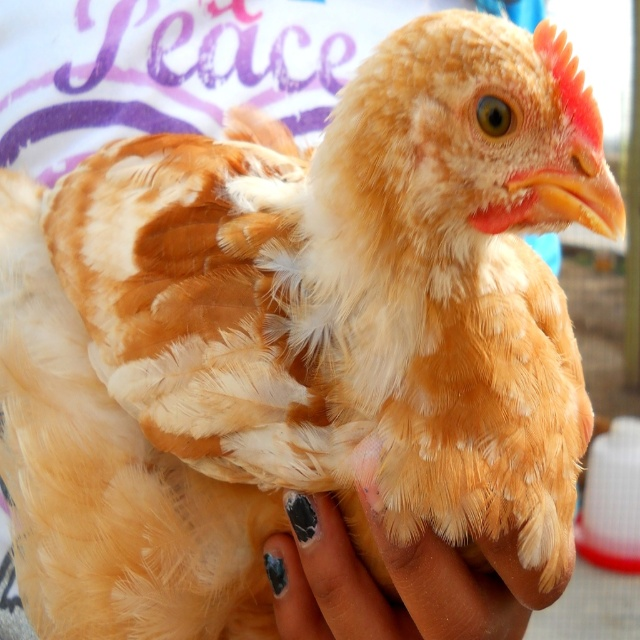Chicken: (38, 10, 620, 616)
